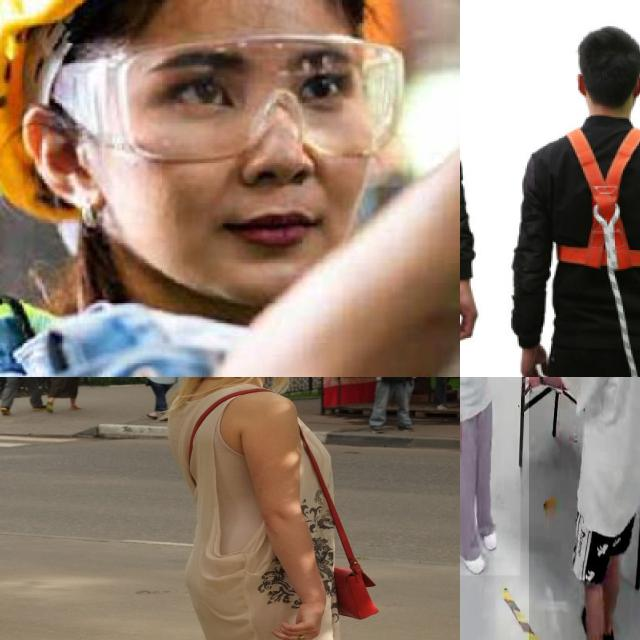Harness: (530, 121, 640, 272)
No_Ear-Protection: (20, 100, 107, 214)
hand_noglove: (523, 377, 544, 391)
person: (529, 377, 640, 640), (460, 377, 521, 576)
shoes: (580, 597, 618, 640), (460, 532, 484, 576)
